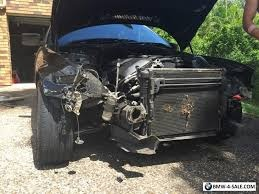Smashed: (56, 50, 232, 154)
